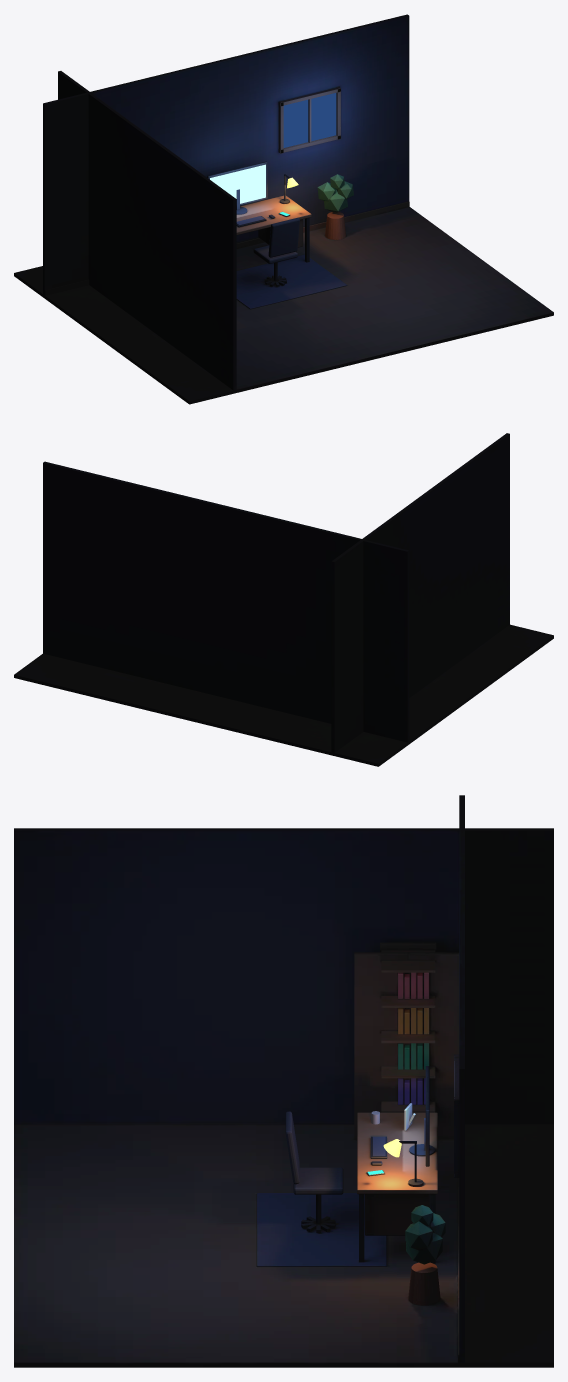
Rendered from sala.glb.
3 views of the same model, one above another, from view 1: azimuth 30°, elevation 25°; view 2: azimuth 150°, elevation 25°; view 3: azimuth 270°, elevation 25° (orthographic). The views are drawn at different scales.
Parts seen in each view (by area): view 1: paredes, chao, tapete, janela_vidro, mesa, cadeira, planta, monitor_tela, janela_moldura, monitor; view 2: paredes, chao; view 3: paredes, chao, estante, mesa, tapete, planta, cadeira, janela_moldura, monitor.
Boxes of the visible parts, box(x1,y1,x2,y2) form: paredes: box(43, 14, 409, 390); chao: box(14, 207, 553, 404); tapete: box(236, 254, 347, 309); janela_vidro: box(283, 93, 336, 147); mesa: box(236, 195, 311, 262); cadeira: box(253, 218, 299, 286); planta: box(317, 174, 353, 239); monitor_tela: box(210, 164, 265, 203); janela_moldura: box(278, 87, 340, 153); monitor: box(207, 161, 267, 214); paredes: box(43, 433, 509, 752); chao: box(14, 624, 553, 766); paredes: box(14, 795, 553, 1362); chao: box(14, 1124, 553, 1367); estante: box(354, 942, 459, 1139); mesa: box(357, 1112, 437, 1263); tapete: box(257, 1193, 386, 1266); planta: box(405, 1205, 445, 1305); cadeira: box(285, 1111, 343, 1232); janela_moldura: box(454, 1054, 459, 1177); monitor: box(409, 1066, 435, 1166).
Size of the model in its own units: 6 by 3.05 by 5.
Materials: 17 (13 with a texture image).
